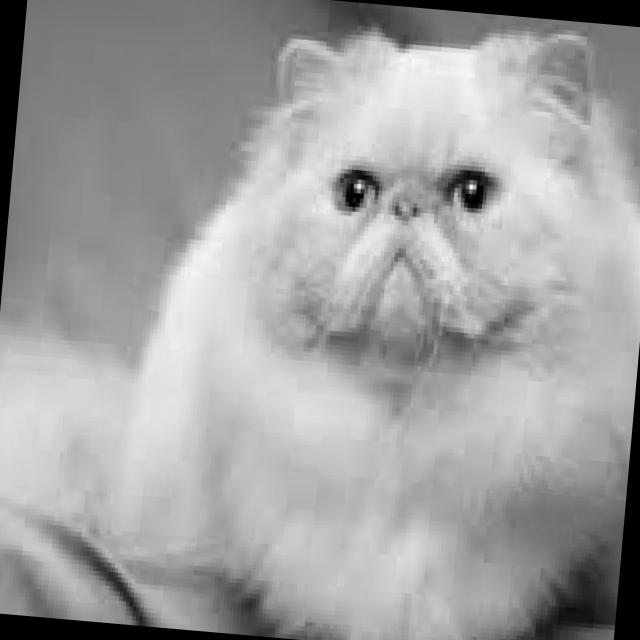iran: (282, 90, 538, 365)
